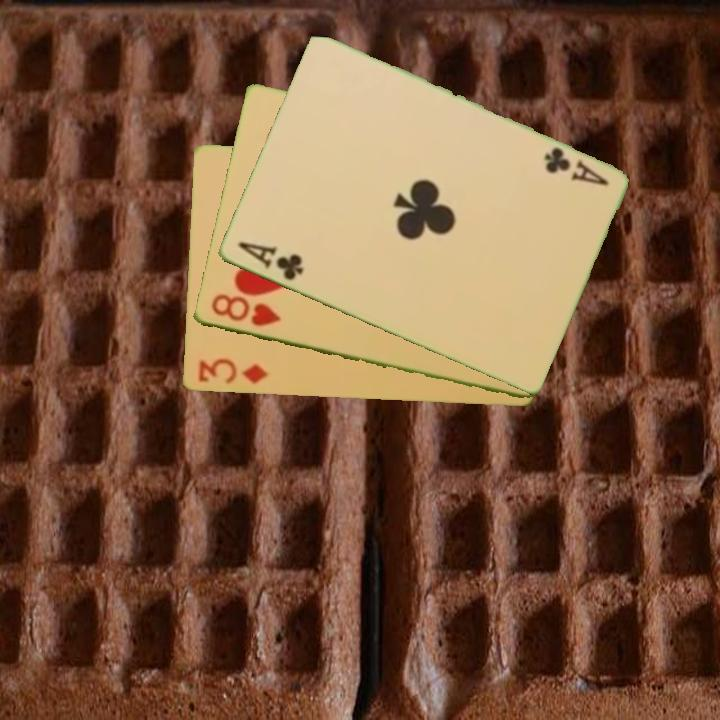3d: (195, 355, 270, 388)
8h: (207, 290, 284, 330)
Ac: (234, 238, 306, 284), (540, 144, 611, 189)
